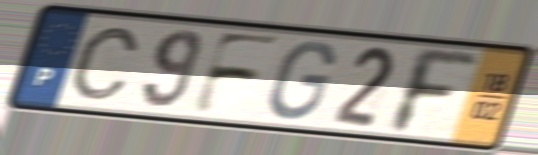2: (329, 44, 398, 131)
9: (139, 26, 205, 112)
C: (67, 24, 144, 103)
F: (387, 44, 482, 137), (187, 29, 287, 117)
G: (265, 39, 338, 123)
